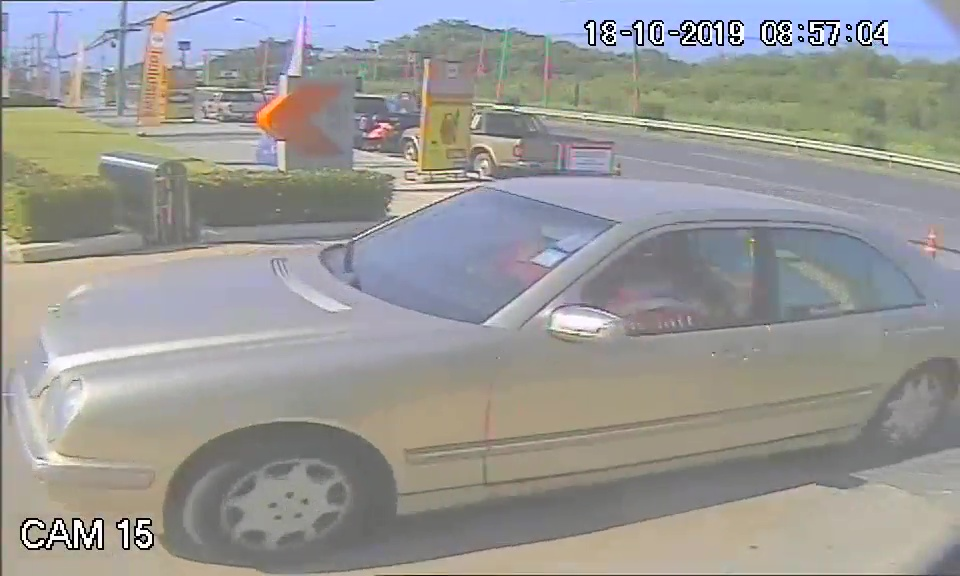sedan: (7, 172, 866, 509)
